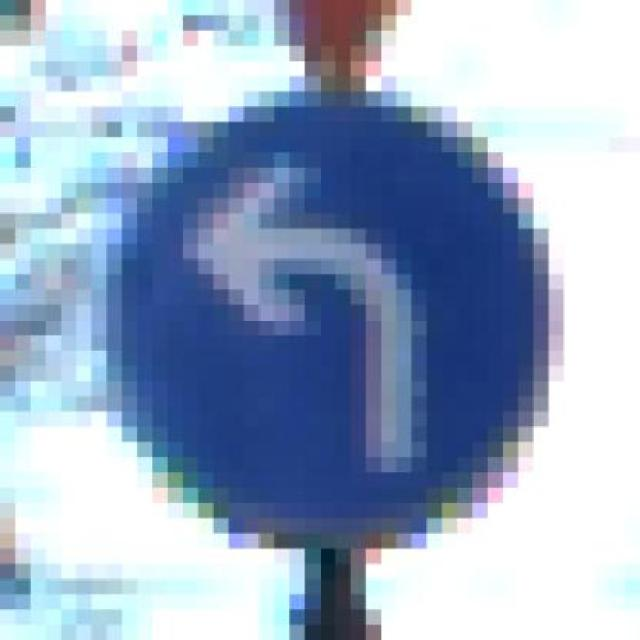Turn left ahead: (91, 76, 564, 549)
